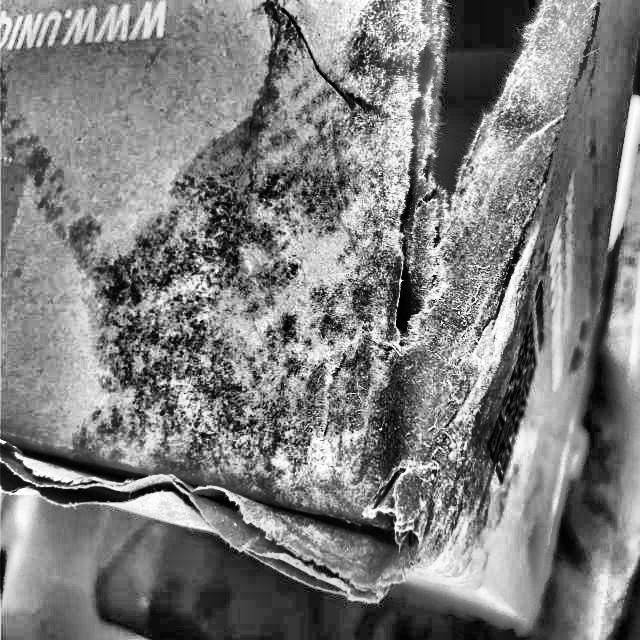box: (0, 0, 640, 640)
hole: (396, 0, 558, 135)
wet: (109, 148, 513, 532)
